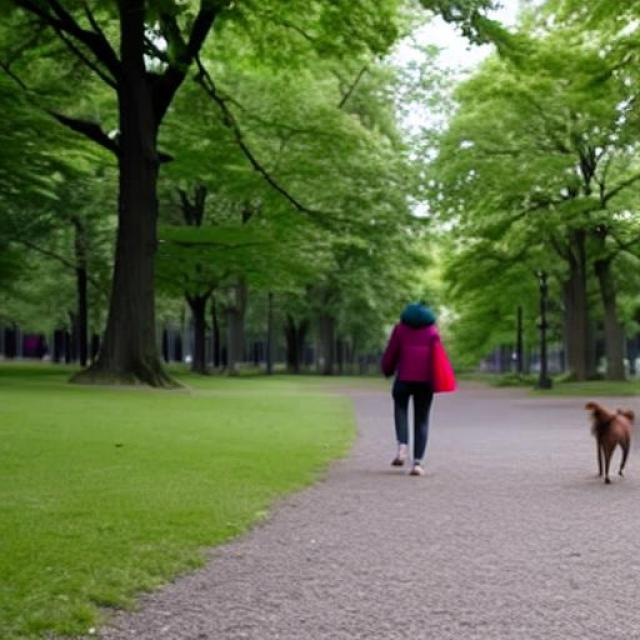Unleashed_Dog: (391, 381, 640, 484)
